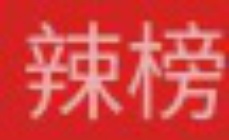TextView: (1, 1, 228, 139)
